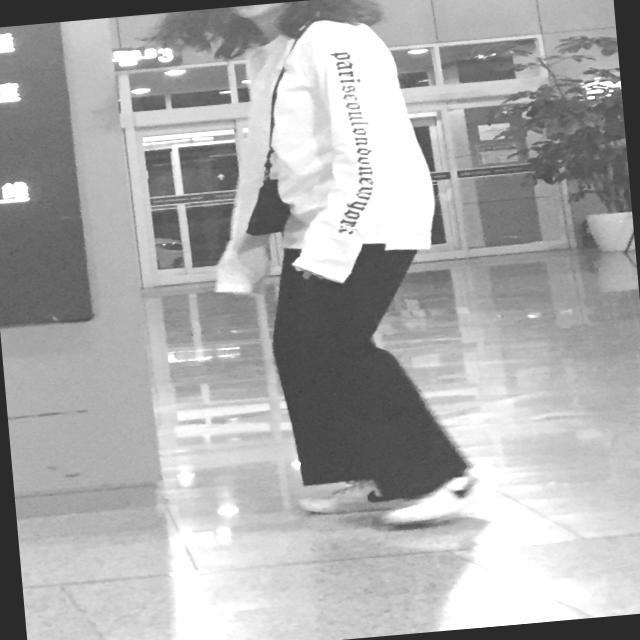longsleeve: (188, 8, 444, 298)
slacks: (260, 228, 473, 512)
